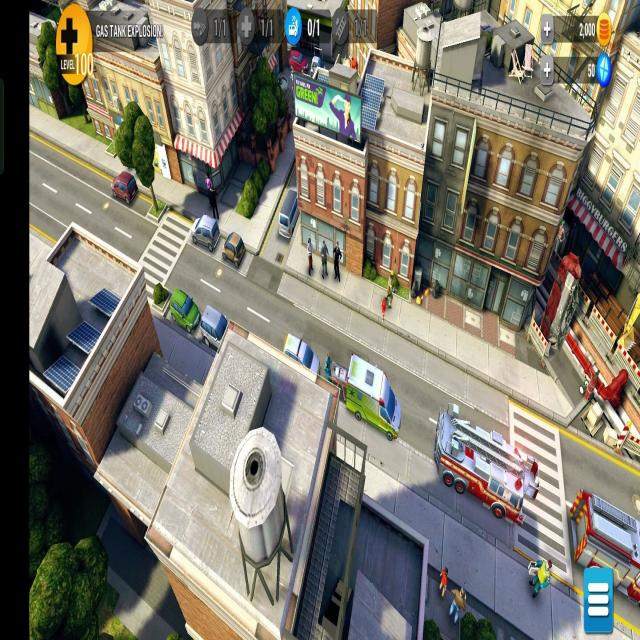billboard: (293, 71, 363, 147)
